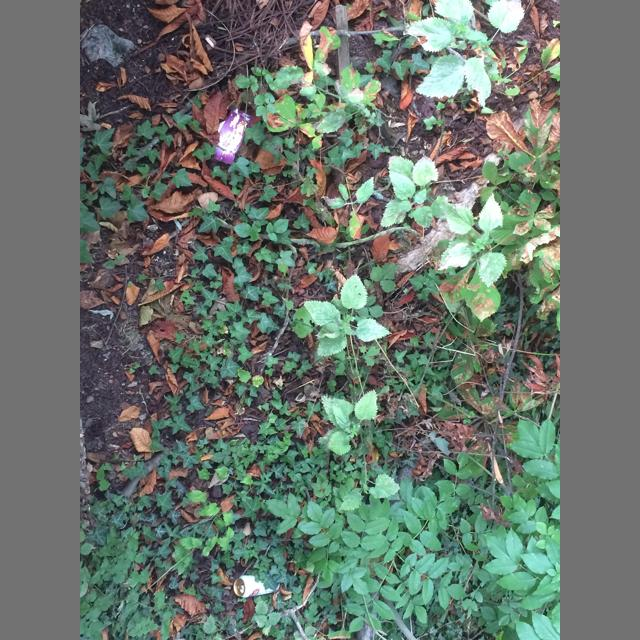litter: (213, 107, 254, 164), (233, 575, 280, 598)
